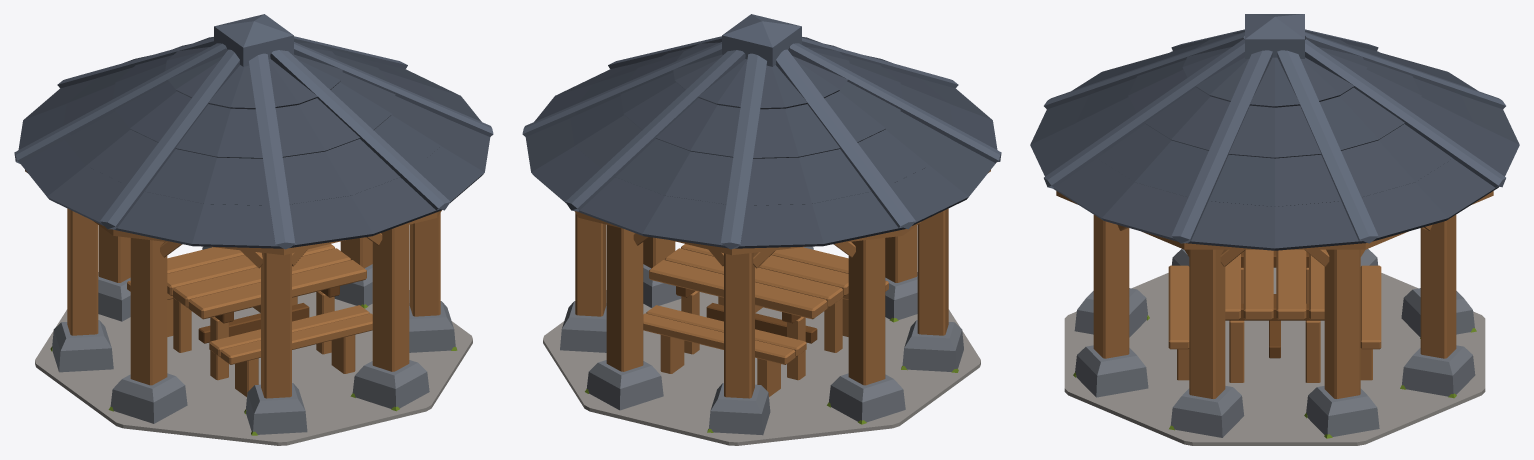
Rendered from park gazebo.fbx.
The picture shows the model from 3 angles, left to right: view 1: azimuth 30°, elevation 25°; view 2: azimuth 150°, elevation 25°; view 3: azimuth 270°, elevation 25°; orthographic projection. The views are drawn at different scales.
Parts seen in each view (by area): view 1: Gazebo_LowPoly; view 2: Gazebo_LowPoly; view 3: Gazebo_LowPoly.
Boxes of the visible parts, x1,y1,x2,y2 form: Gazebo_LowPoly: (14,14,493,445); Gazebo_LowPoly: (522,14,1001,445); Gazebo_LowPoly: (1030,14,1519,445).
Size of the model in its own units: 360 by 276 by 360.
